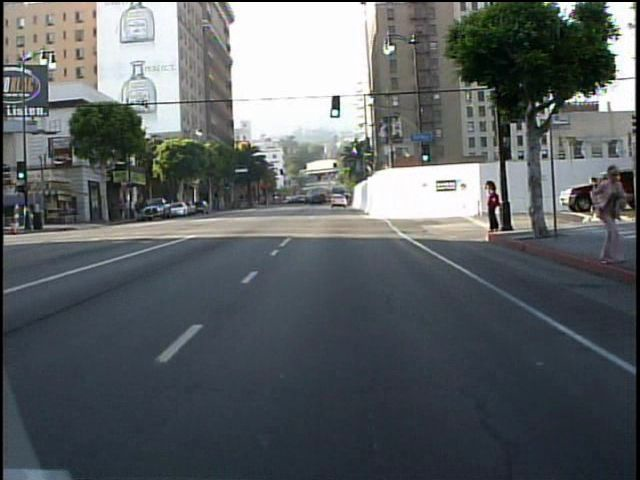person: (482, 179, 502, 237)
